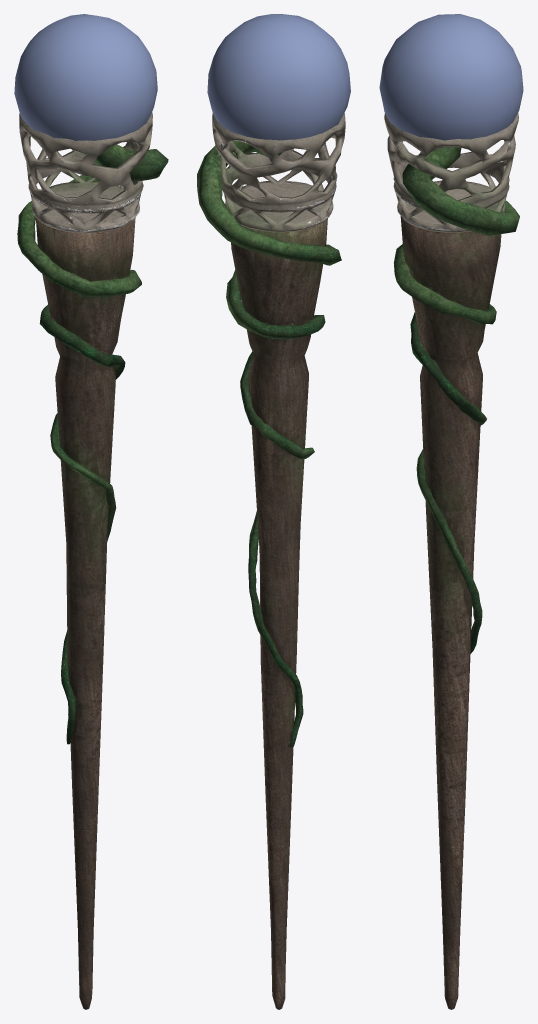
The model's file is magic_wand.fbx.
3 views of the same model, side by side, from view 1: azimuth 30°, elevation 25°; view 2: azimuth 150°, elevation 25°; view 3: azimuth 270°, elevation 25° (orthographic).
Visible parts, largest first — view 1: wand, wand3, wand1, wand2; view 2: wand, wand3, wand1, wand2; view 3: wand, wand3, wand2, wand1.
Part boxes in pixels (x1,y1,x2,y2): wand: (35, 217, 135, 1009); wand3: (14, 14, 157, 140); wand1: (19, 112, 152, 233); wand2: (17, 144, 168, 744); wand: (231, 218, 327, 1009); wand3: (207, 14, 350, 140); wand1: (212, 113, 345, 232); wand2: (197, 141, 341, 747); wand: (400, 216, 501, 1009); wand3: (379, 14, 523, 140); wand2: (394, 147, 519, 653); wand1: (384, 113, 518, 232).
Size of the model in its own units: 13.41 by 91.95 by 12.13.
1 material, 1 textured.
